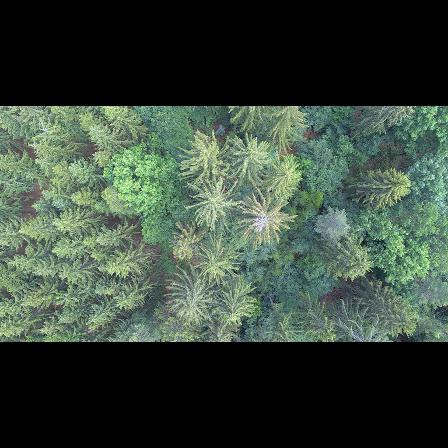Sick: (244, 200, 287, 239)
